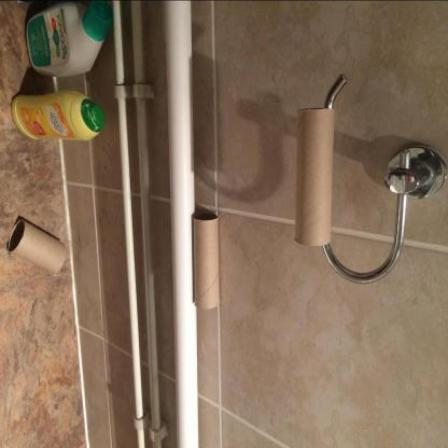Bottle: (27, 1, 114, 78), (12, 91, 105, 142)
Bottle cap: (82, 2, 114, 63)
Carton: (296, 108, 336, 247), (9, 220, 67, 275), (194, 215, 221, 310)
